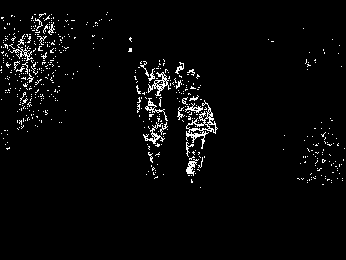person: (136, 85, 169, 181), (178, 88, 213, 177), (152, 59, 171, 92), (133, 60, 148, 95)
